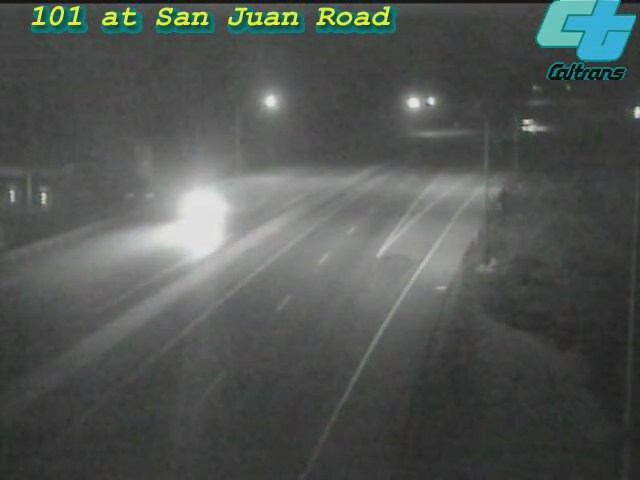vehicle: (164, 166, 244, 246), (514, 99, 564, 149)
